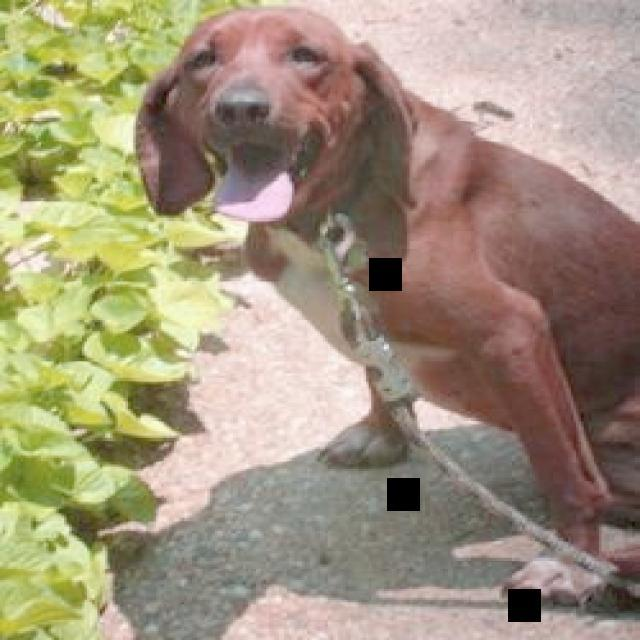adult_dog: (133, 1, 640, 605)
